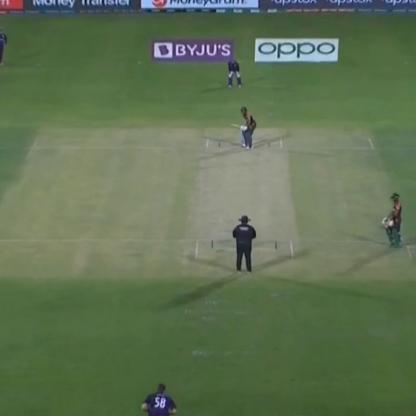bat: (224, 120, 247, 130)
pitch: (196, 134, 292, 264)
